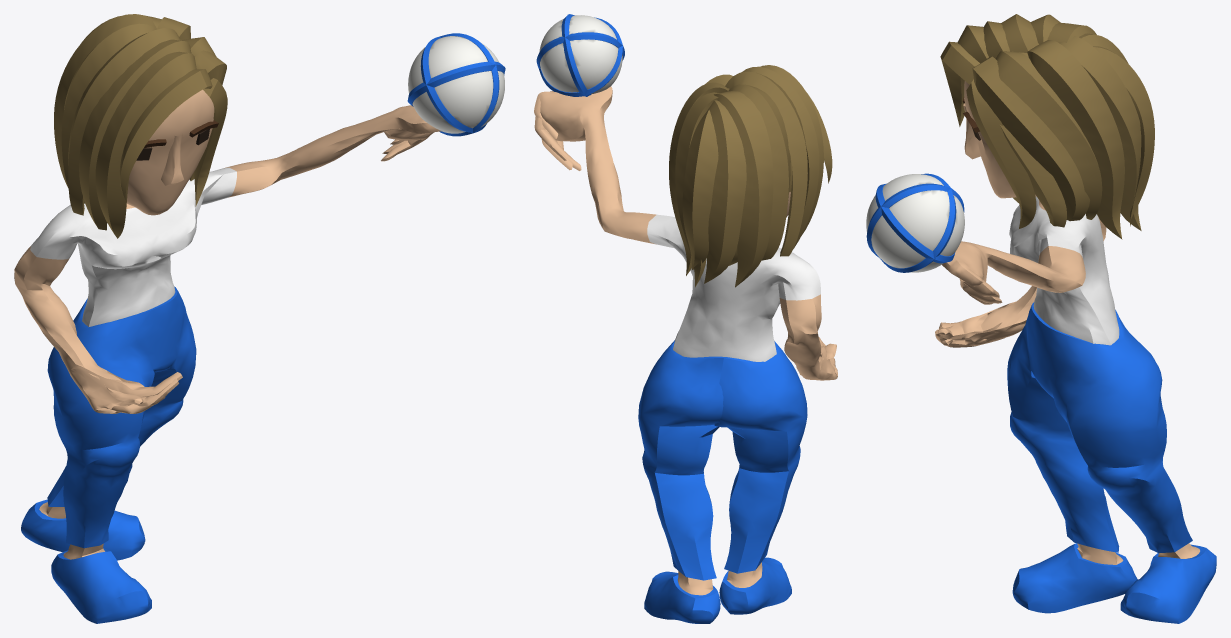
Rendered from av-menina-volei.glb.
3 renders of one model, left to right at view 1: azimuth 30°, elevation 25°; view 2: azimuth 150°, elevation 25°; view 3: azimuth 270°, elevation 25°, orthographic. The views are drawn at different scales.
Parts seen in each view (by area): view 1: Ad_bola_volei_0_0; view 2: Ad_bola_volei_0_0; view 3: Ad_bola_volei_0_0.
Boxes of the visible parts, bbox=[...] form: Ad_bola_volei_0_0: bbox=[14, 14, 505, 623]; Ad_bola_volei_0_0: bbox=[534, 14, 837, 623]; Ad_bola_volei_0_0: bbox=[866, 14, 1216, 623].
Size of the model in its own units: 0.9831 by 1.37 by 0.7321.
1 material, 1 textured.
